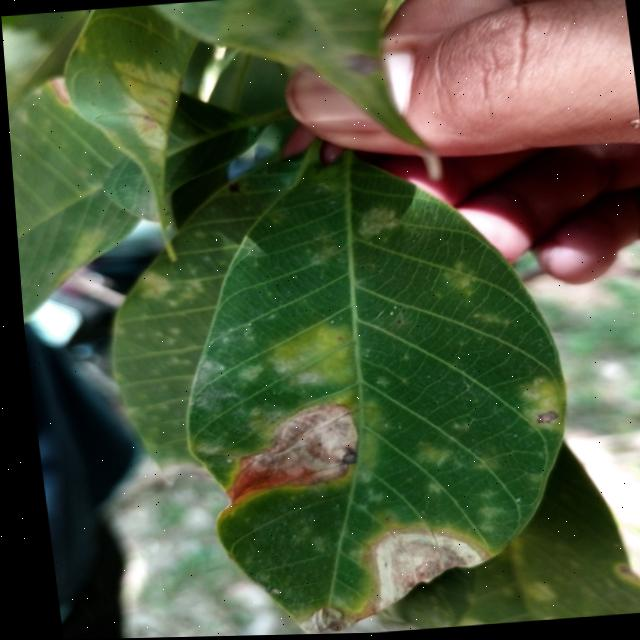Colletotrichum: (334, 453, 351, 467)
Leaf-Blight: (207, 402, 358, 505), (354, 526, 483, 616), (288, 605, 348, 636)
